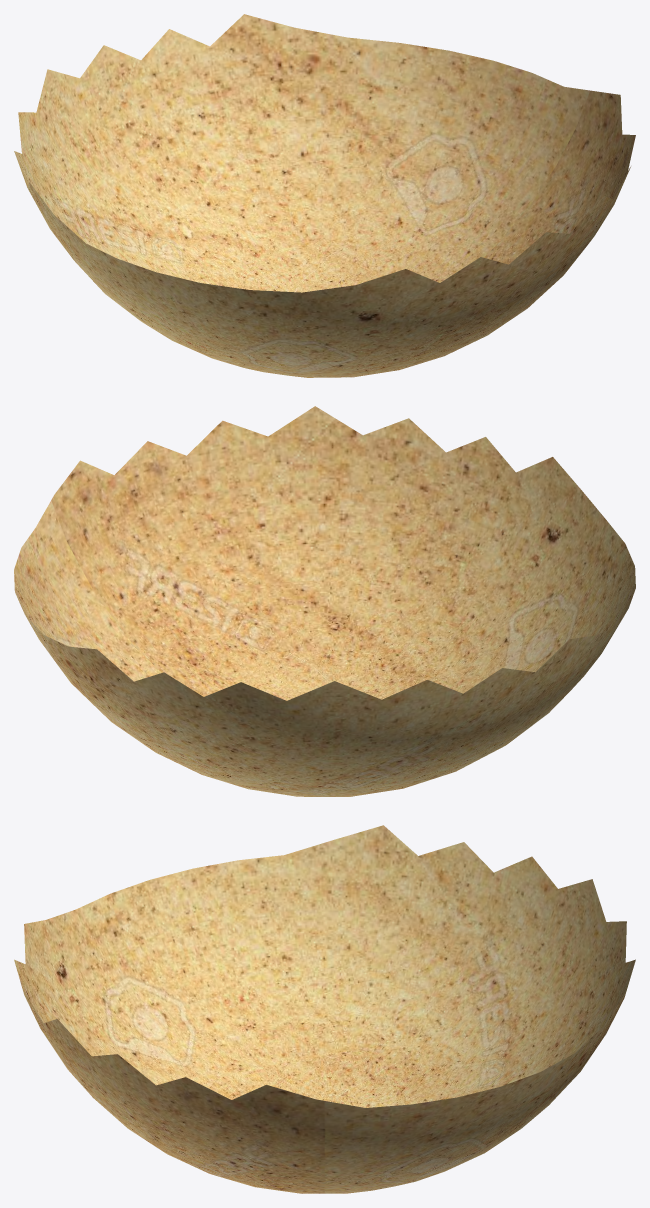
Rendered from sandobj.FBX.
3 views of the same model, one above another, from view 1: azimuth 30°, elevation 25°; view 2: azimuth 150°, elevation 25°; view 3: azimuth 270°, elevation 25° (orthographic). The views are drawn at different scales.
Visible parts, largest first — view 1: GeoSphere002; view 2: GeoSphere002; view 3: GeoSphere002.
Boxes of the visible parts, x1,y1,x2,y2 form: GeoSphere002: (14,14,635,377); GeoSphere002: (14,406,635,796); GeoSphere002: (14,825,635,1193).
Size of the model in its own units: 41.48 by 16.05 by 42.02.
